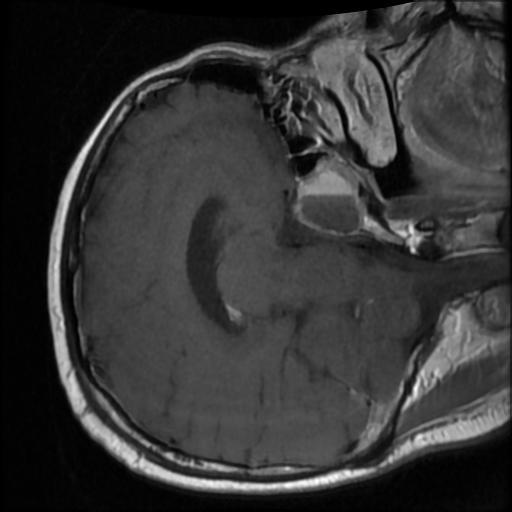pituitary tumour: (291, 164, 364, 238)
